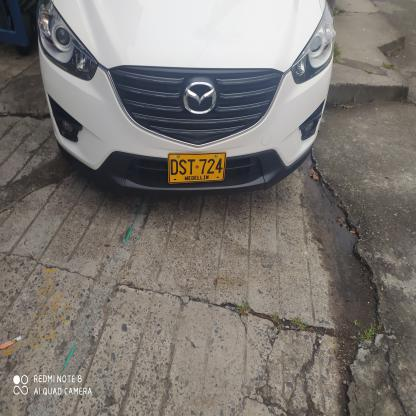placa: (163, 148, 230, 187)
